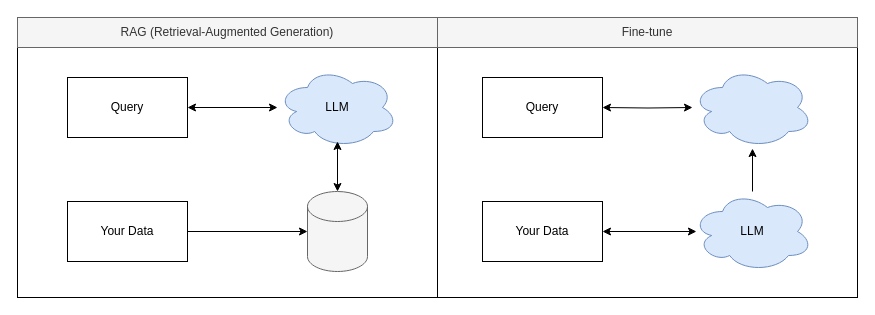
Some shapes in this 875 by 315 pixel diagram are drawn without their labels. The shapes that lost their labels are listed below. From the top down, each one's centre as x and y in pixels, then its label:
At point (752, 107): "LLM（New）".
At point (337, 231): "VectorDB".
